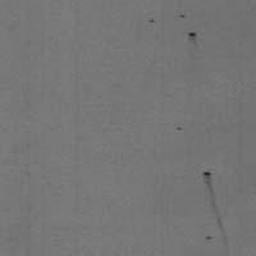Inclusion: (203, 171, 214, 194), (188, 32, 197, 38)
